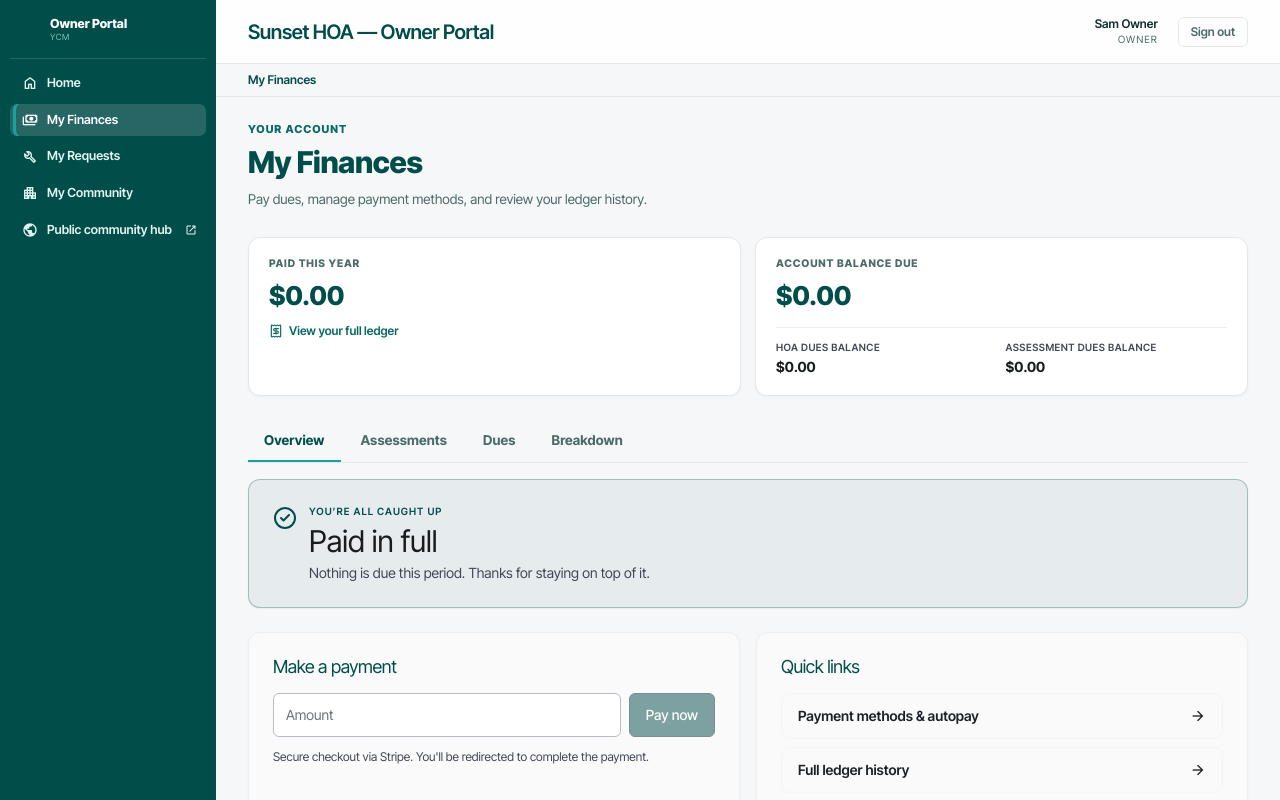
it: Portal Finances — per-unit hierarchical breakdown (2026-05-25) › falls back gracefully when the server omits byUnit (legacy clients)
Check: the heading "My Finances" is shown, box [248,144,423,180]
What coordinates should you click on to do the following:
click the tab with test id "portal-finances-tab-breakdown"
I would click on:
 (587, 440)
Its box is [536,420,639,462].
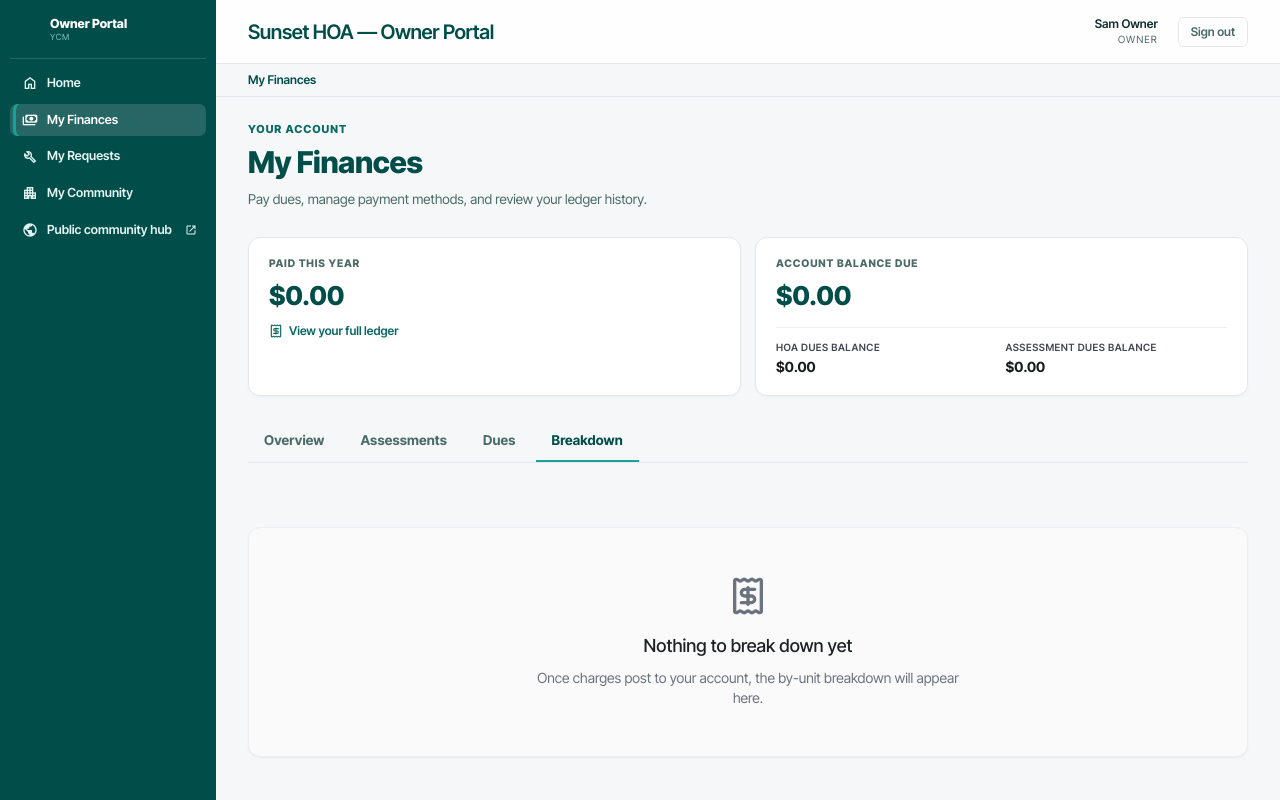
Check: the panel with test id "portal-finances-tabpanel-breakdown" is shown, box [248,526,1248,756]
